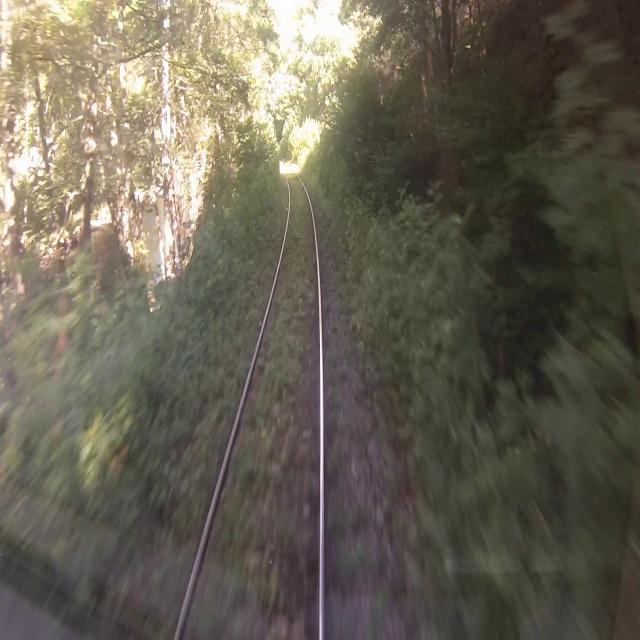Plant: (79, 151, 288, 639), (293, 149, 450, 639), (211, 177, 305, 629), (327, 447, 370, 538), (331, 541, 389, 592), (326, 353, 342, 439), (367, 585, 395, 629)
